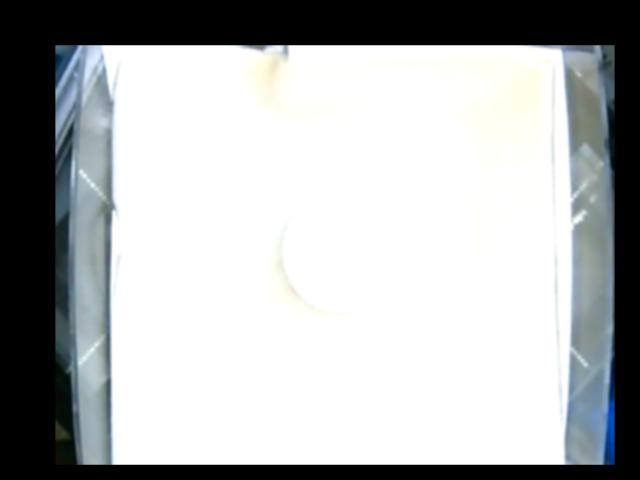Cup: (281, 192, 402, 315)
